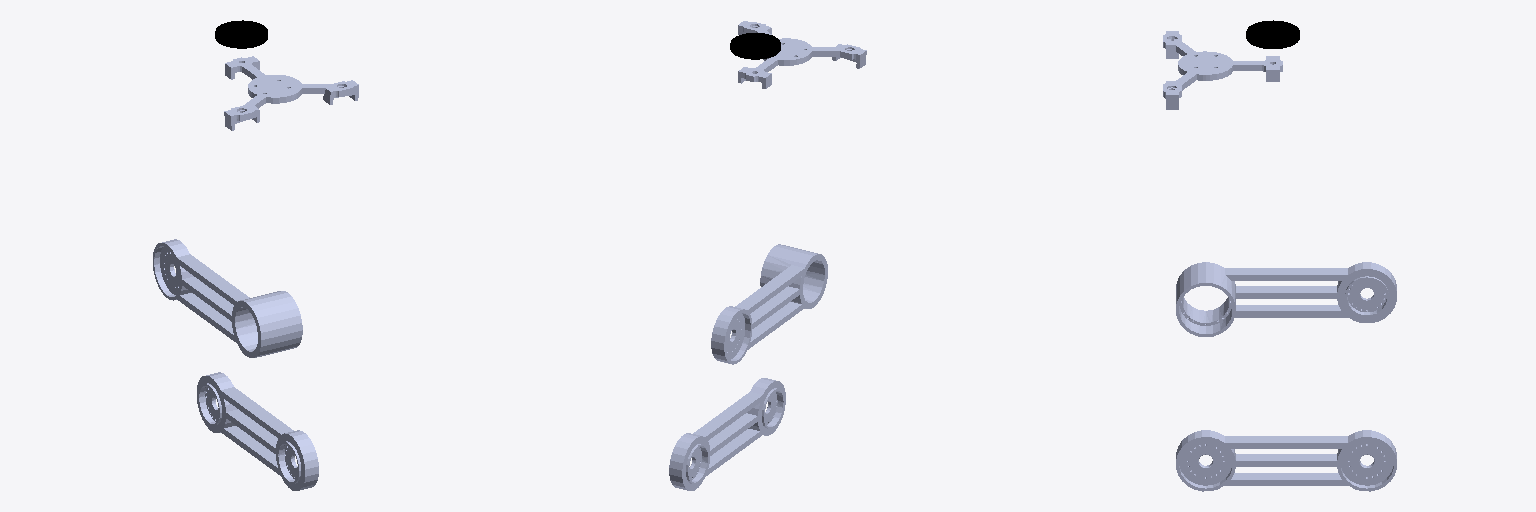
The robot description file, URDF, robot "bigmama0306":
<?xml version="1.0" encoding="utf-8" ?>
<!-- This URDF was automatically created by SolidWorks to URDF Exporter! Originally created by [author] ([email redacted]) 
     Commit Version: 1.6.0-1-g15f4949  Build Version: 1.6.7594.29634
     For more information, please see http://wiki.ros.org/sw_urdf_exporter -->
<robot name="bigmama0306">
<!--<link name="world"/>-->
    <link name="dummy" />
<!--<joint name="world_joint" type="fixed">
          <parent link="world"/>
          <child link="dummy"/>
    </joint>-->
    <link name="Link_0">
        
<inertial>
            <origin xyz="-0.0036197 -0.0088605 0.029488" rpy="0 0 0" />
            <mass value="0.80666" /><!--0.80666-->
            <inertia ixx="0.0014974" ixy="-1.2947E-05" ixz="1.4235E-05" iyy="0.0014446" iyz="-7.5473E-06" izz="0.0010286" />
        </inertial>

        <visual>
            <origin xyz="0 0 0" rpy="0 0 0" />
            <geometry>
                <mesh filename="package://bigmama0306/meshes/Link_0.STL" />
            </geometry>
            <material name="">
                <color rgba="0.79216 0.81961 0.93333 1" />
            </material>
        </visual>
        <collision>
            <origin xyz="0 0 0" rpy="0 0 0" />
            <geometry>
                <mesh filename="package://bigmama0306/meshes/Link_0.STL" />
            </geometry>
            <friction>
            <ode>
              <mu>10</mu>
              <mu2>10</mu2>
              <fdir1>1 0 0</fdir1>
              <slip1>0</slip1>
              <slip2>0</slip2>
            </ode>
            <torsional>
              <coefficient>1</coefficient>
              <patch_radius>0</patch_radius>
              <surface_radius>0</surface_radius>
              <use_patch_radius>1</use_patch_radius>
              <ode>
                <slip>0</slip>
              </ode>
            </torsional>
          </friction>
        </collision>
    </link>
    <joint name="dummy_joint" type="fixed">
        <parent link="dummy" />
        <child link="Link_0" />
    </joint>
    <link name="Link_1">
        
<inertial>
            <origin xyz="-5.5511E-16 0.12 0.014813" rpy="0 0 0" />
            <mass value="0.28238" /><!--0.28238-->
            <inertia ixx="0.0027445" ixy="4.2498E-20" ixz="3.991E-21" iyy="0.00019508" iyz="-4.8177E-20" izz="0.0029159" />
        </inertial>

        <visual>
            <origin xyz="0 0 0" rpy="0 0 0" />
            <geometry>
                <mesh filename="package://bigmama0306/meshes/Link_1.STL" />
            </geometry>
            <material name="">
                <color rgba="0.79216 0.81961 0.93333 1" />
            </material>
        </visual>
        <collision>
            <origin xyz="0 0 0" rpy="0 0 0" />
            <geometry>
                <mesh filename="package://bigmama0306/meshes/Link_1.STL" />
            </geometry>
        </collision>
    </link>
    <joint name="Joint_1" type="revolute">
        <origin xyz="0.022 0 0.155" rpy="1.5708 0 1.5708" />
        <parent link="Link_0" />
        <child link="Link_1" />
        <axis xyz="0 0 -1" />
        <limit lower="-3.14" upper="3.14" effort="100" velocity="0.25" />
    </joint>
    <link name="Link_2">
        
<inertial>
            <origin xyz="0 0.098184 -0.051898" rpy="0 0 0" />
            <mass value="0.34516" /><!--0.34516-->
            <inertia ixx="0.0036332" ixy="3.4151E-18" ixz="-4.4364E-19" iyy="0.00034405" iyz="0.00024115" izz="0.0037914" />
        </inertial>

        <visual>
            <origin xyz="0 0 0" rpy="0 0 0" />
            <geometry>
                <mesh filename="package://bigmama0306/meshes/Link_2.STL" />
            </geometry>
            <material name="">
                <color rgba="0.79216 0.81961 0.93333 1" />
            </material>
        </visual>
        <collision>
            <origin xyz="0 0 0" rpy="0 0 0" />
            <geometry>
                <mesh filename="package://bigmama0306/meshes/Link_2.STL" />
            </geometry>
        </collision>
    </link>
    <joint name="Joint_2" type="revolute">
        <origin xyz="0 0.24 0" rpy="0 0 0" />
        <parent link="Link_1" />
        <child link="Link_2" />
        <axis xyz="0 0 -1" />
        <limit lower="-3.14" upper="3.14" effort="100" velocity="0.25" />
    </joint>
    <link name="Link_3">
        
<inertial>
            <origin xyz="0.0088614 0.12552 0.025619" rpy="0 0 0" />
            <mass value="0.80659" /><!--0.80659-->
            
            <inertia ixx="0.0014442" ixy="-7.5611E-06" ixz="-1.2945E-05" iyy="0.0010285" iyz="1.4228E-05" izz="0.001497"/>
        </inertial>
        <visual>
            <origin xyz="0 0 0" rpy="0 0 0" />
            <geometry>
                <mesh filename="package://bigmama0306/meshes/Link_3.STL" />
            </geometry>
            <material name="">
                <color rgba="0.79216 0.81961 0.93333 1" />
            </material>
        </visual>
        <collision>
            <origin xyz="0 0 0" rpy="0 0 0" />
            <geometry>
                <mesh filename="package://bigmama0306/meshes/Link_3.STL" />
            </geometry>
            <friction>
            <ode>
              <mu>100</mu>
              <mu2>100</mu2>
              <fdir1>0 1 0</fdir1>
              <slip1>0</slip1>
              <slip2>0</slip2>
            </ode>
            <torsional>
              <coefficient>1</coefficient>
              <patch_radius>0</patch_radius>
              <surface_radius>0</surface_radius>
              <use_patch_radius>1</use_patch_radius>
              <ode>
                <slip>0</slip>
              </ode>
            </torsional>
          </friction>
        </collision>
    </link>
    <joint name="Joint_3" type="revolute">
        <origin xyz="0 0.24 -0.0442" rpy="0 0 0" />
        <parent link="Link_2" />
        <child link="Link_3" />
        <axis xyz="0 0 1" />
        <limit lower="-3.14" upper="3.14" effort="100" velocity="0.25" />
    </joint>
    <link name="Link_4">
        
<inertial>
            <origin xyz="5.6621E-15 4.8191E-15 0.00025" rpy="0 0 0" />
            <mass value="3.927E-05" />
            <inertia ixx="2.4626E-10" ixy="1.9285E-38" ixz="3.6273E-24" iyy="2.4626E-10" iyz="1.3147E-24" izz="4.9087E-10" />
        </inertial>

        <visual>
            <origin xyz="0 0 0" rpy="0 0 0" />
            <geometry>
                <mesh filename="package://bigmama0306/meshes/Link_4.STL" />
            </geometry>
            <material name="">
                <color rgba="0.79216 0.81961 0.93333 1" />
            </material>
        </visual>
        <collision>
            <origin xyz="0 0 0" rpy="0 0 0" />
            <geometry>
                <mesh filename="package://bigmama0306/meshes/Link_4.STL" />
            </geometry>
        </collision>
    </link>
    <joint name="Joint_4" type="revolute">
        <origin xyz="0 0.155 0.022" rpy="-1.5708 0 0" />
        <parent link="Link_3" />
        <child link="Link_4" />
        <axis xyz="0 0 1" />
        <limit lower="0" upper="0" effort="0" velocity="0" />
    </joint>
    <link name="vacuum_gripper">
      <gravity>0</gravity>
      <visual>
        <origin rpy="0 0 0" xyz="0 0 0"/>
        <geometry>
          <cylinder radius="0.04" length="0.01"/>
        </geometry>
        <material name="transparent">
          <color rgba="0 0 0 0"/>
        </material>
      </visual>
      <inertial>
        <origin rpy="0 0 0" xyz="0.000000 0.000000 0.000000"/>
        <mass value="0.0001"/>
        <inertia ixx="1e-08" ixy="0" ixz="0" iyy="1e-08" iyz="0" izz="1e-08"/>
      </inertial>
    </link>
    <joint name="gripper_joint" type="revolute">
      <axis xyz="1 0 0" />
      <parent link="Link_3" />
      <child link="vacuum_gripper" />
      <origin rpy="1.5708 0 0" xyz="0.100 0.201 0.021" />
      <limit effort="50" velocity="50" lower="0" upper="0" />
      <dynamics damping="0.0" friction="10"/>
    </joint>
<transmission name="trans_Joint_1">
        <type>transmission_interface/SimpleTransmission</type>
        <joint name="Joint_1">
            <hardwareInterface>hardware_interface/PositionJointInterface</hardwareInterface>
        </joint>
        <actuator name="Joint_1_motor">
            <hardwareInterface>hardware_interface/PositionJointInterface</hardwareInterface>
            <mechanicalReduction>1</mechanicalReduction>
        </actuator>
    </transmission>
    <transmission name="trans_Joint_2">
        <type>transmission_interface/SimpleTransmission</type>
        <joint name="Joint_2">
            <hardwareInterface>hardware_interface/PositionJointInterface</hardwareInterface>
        </joint>
        <actuator name="Joint_2_motor">
            <hardwareInterface>hardware_interface/PositionJointInterface</hardwareInterface>
            <mechanicalReduction>1</mechanicalReduction>
        </actuator>
    </transmission>
    <transmission name="trans_Joint_3">
        <type>transmission_interface/SimpleTransmission</type>
        <joint name="Joint_3">
            <hardwareInterface>hardware_interface/PositionJointInterface</hardwareInterface>
        </joint>
        <actuator name="Joint_3_motor">
            <hardwareInterface>hardware_interface/PositionJointInterface</hardwareInterface>
            <mechanicalReduction>1</mechanicalReduction>
        </actuator>
    </transmission>
    <transmission name="trans_Joint_4">
        <type>transmission_interface/SimpleTransmission</type>
        <joint name="Joint_4">
            <hardwareInterface>hardware_interface/PositionJointInterface</hardwareInterface>
        </joint>
        <actuator name="Joint_4_motor">
            <hardwareInterface>hardware_interface/PositionJointInterface</hardwareInterface>
            <mechanicalReduction>1</mechanicalReduction>
        </actuator>
    </transmission>
    <gazebo reference="Link_3">
        <material>Gazebo/Yellow</material>
        <kp>1e10</kp> 
        <kd>100.0</kd>  
        <mu1>100</mu1>
        <mu2>100</mu2>
        <fdir1>1 0 0</fdir1>
        <maxVel>0.0</maxVel>
        <minDepth>0.0</minDepth>
    </gazebo>
    <gazebo reference="Link_0">
        <material>Gazebo/Green</material>
        <turnGravityOff>false</turnGravityOff>
        <kp>100000.0</kp> 
        <kd>500.0</kd>  
        <mu1>0.9</mu1>
        <mu2>0.9</mu2>
        <fdir1>1 0 0</fdir1>
        <maxVel>0.0</maxVel>
        <minDepth>0.0</minDepth>
    </gazebo>
    <gazebo reference="Link_1">
        <material>Gazebo/LightBlueLaser</material>
        <turnGravityOff>false</turnGravityOff>
    </gazebo>
    <gazebo reference="Link_2">
        <material>Gazebo/LightBlueLaser</material>
        <turnGravityOff>false</turnGravityOff>
    </gazebo>
    <gazebo reference="vacuum_gripper">
        <mu1>50</mu1>
        <mu2>50</mu2>
        <minDepth>0.003</minDepth>
        <maxVel>0</maxVel>
        <kp>10000.0</kp>
        <kd>500.0</kd>
        <material>Gazebo/Grey</material>
    </gazebo>
    <gazebo>
      <plugin name="gazebo_ros_vacuum_gripper" filename="libgazebo_ros_vacuum_gripper.so">
        <robotNamespace>/arm/vacuum_gripper</robotNamespace>
        <bodyName>vacuum_gripper</bodyName>
        <topicName>grasping</topicName>
        <maxForce>50</maxForce>
        <maxDistance>0.05</maxDistance>
        <minDistance>0.01</minDistance>
      </plugin>
    </gazebo>
    <gazebo>
        <plugin name="gazebo_ros_control" filename="libgazebo_ros_control.so">
            <robotNamespace>/</robotNamespace>
        </plugin>
    </gazebo>
</robot>

--- Render facts (derived) ---
Views: 3 orthographic renders of the robot side by side, from view 1: azimuth 30°, elevation 25°; view 2: azimuth 150°, elevation 25°; view 3: azimuth 270°, elevation 25°.
Model bigmama0306 with 7 links and 6 joints (5 revolute, 1 fixed), rooted at dummy, posed every joint at zero.
Links seen in each view (by area): view 1: Link_2, Link_1, Link_4, vacuum_gripper; view 2: Link_2, Link_1, Link_4, vacuum_gripper; view 3: Link_2, Link_1, Link_4, vacuum_gripper.
Boxes of the visible links, bbox=[...] form: Link_2: bbox=[153, 239, 302, 357]; Link_1: bbox=[197, 372, 318, 490]; Link_4: bbox=[224, 56, 358, 130]; vacuum_gripper: bbox=[215, 20, 267, 48]; Link_2: bbox=[711, 244, 827, 364]; Link_1: bbox=[669, 378, 785, 490]; Link_4: bbox=[738, 21, 866, 88]; vacuum_gripper: bbox=[730, 33, 780, 59]; Link_2: bbox=[1176, 262, 1396, 336]; Link_1: bbox=[1176, 430, 1396, 491]; Link_4: bbox=[1163, 31, 1282, 109]; vacuum_gripper: bbox=[1246, 20, 1299, 48].
Size in the robot's own frame: 0.2249 by 0.3486 by 0.7307 metres.
3 mesh visuals loaded from 5 distinct referenced files (3 binary STL); not drawn: 2 (reference not matched to a file when rendering).
